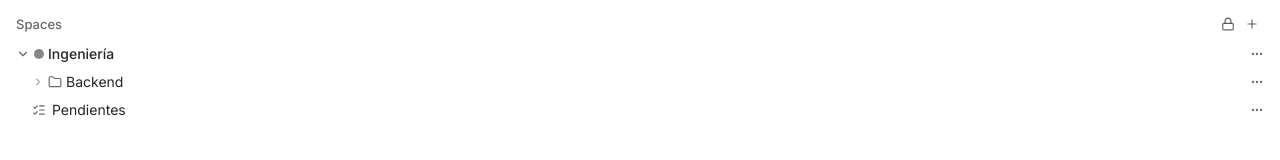
el candado de orden › abierto, las filas se pueden coger
Click the button titled "Rearrange".
click(1228, 24)  # box [1216, 12, 1240, 36]
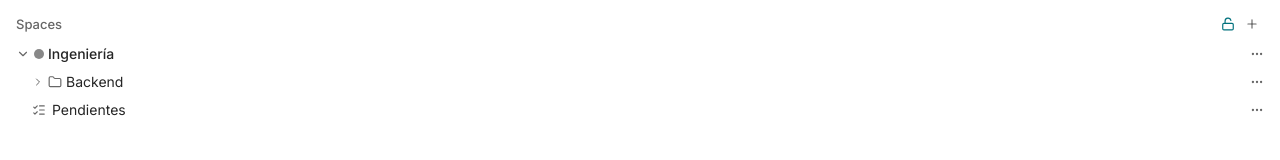
Expected: the number of buttons with class "cursor-grab" is 2, [24, 68, 1272, 96]; [24, 96, 1272, 124]
Result: the button titled "Finish rearranging" is shown at [1216, 12, 1240, 36]
